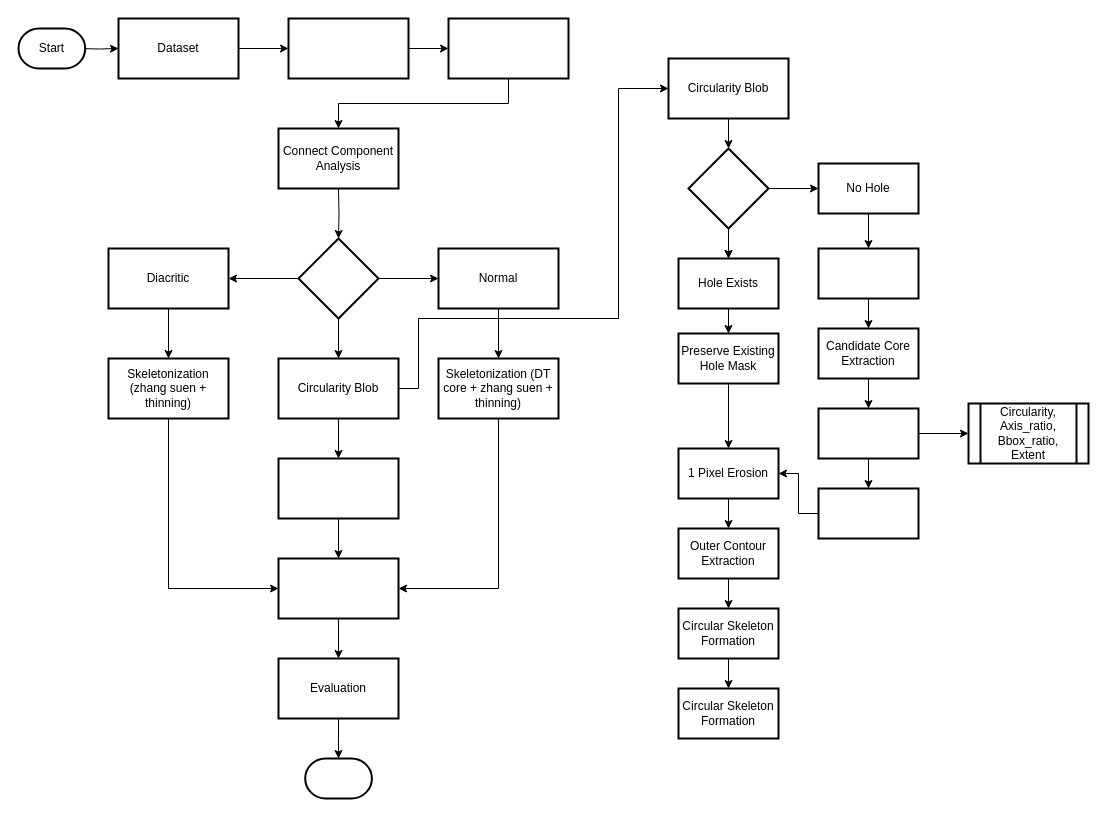
Some shapes in this 1106 by 816 pixel diagram are drawn without their labels. Each missing label, with the centre of its shape:
Classify Component: pixel 338 278
Combine Skeletonization: pixel 338 588
Core Validation: pixel 868 433
DT - Peak Detektion: pixel 868 273
End: pixel 338 778
Hole Detection: pixel 728 188
Pre - processing: pixel 348 48
Pseudo-Hole Carving: pixel 868 513
Skeletonization (Countur + DT peaks + Zhang suen): pixel 338 488
Thresholding: pixel 508 48
